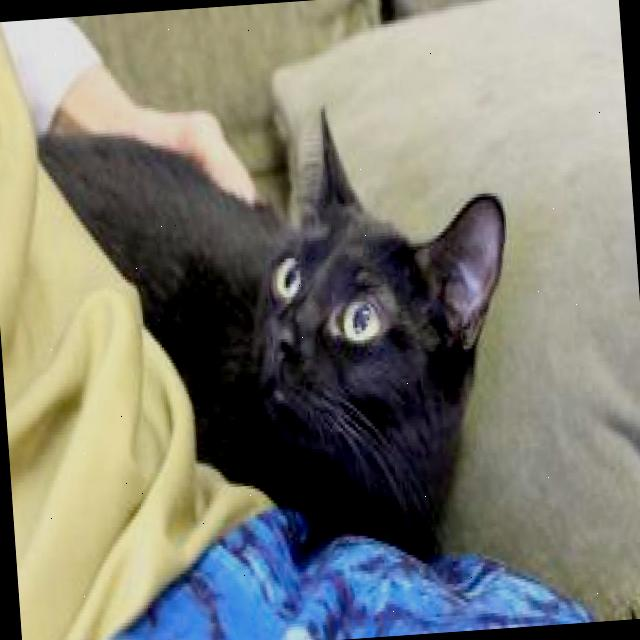bombay_cat: (217, 76, 531, 546)
